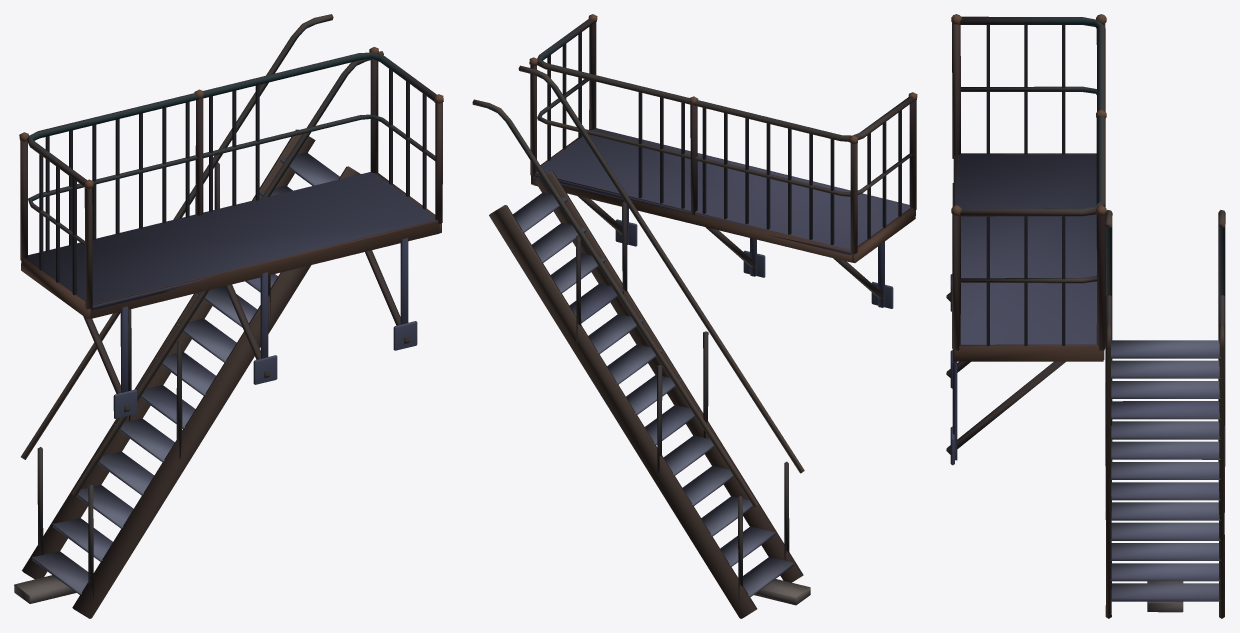
The model's file is escalier_secours.glb.
The picture shows the model from 3 angles, left to right: view 1: azimuth 30°, elevation 25°; view 2: azimuth 150°, elevation 25°; view 3: azimuth 270°, elevation 25°; orthographic projection. The views are drawn at different scales.
Parts seen in each view (by area): view 1: escalier_secours; view 2: escalier_secours; view 3: escalier_secours.
Boxes of the visible parts, bbox=[...] form: escalier_secours: bbox=[14, 14, 443, 618]; escalier_secours: bbox=[472, 14, 917, 618]; escalier_secours: bbox=[946, 14, 1225, 618].
Bounding box in the file's own units: 3.14 × 4.15 × 1.85.
